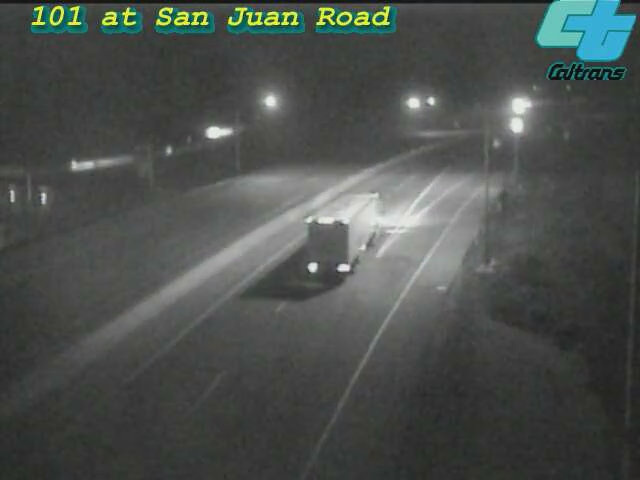vehicle: (309, 195, 389, 275), (493, 101, 543, 151), (491, 82, 541, 132)
